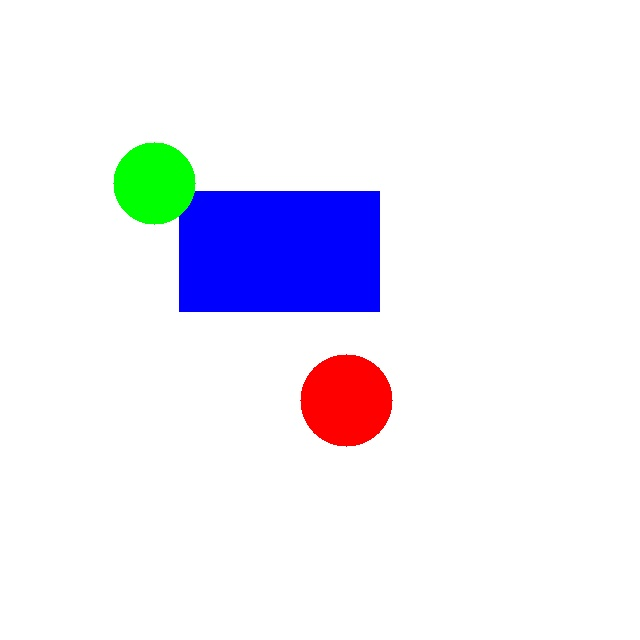cartao: (179, 191, 379, 311)
rosca_externa: (113, 142, 195, 224)
rosca_interna: (300, 354, 392, 446)
